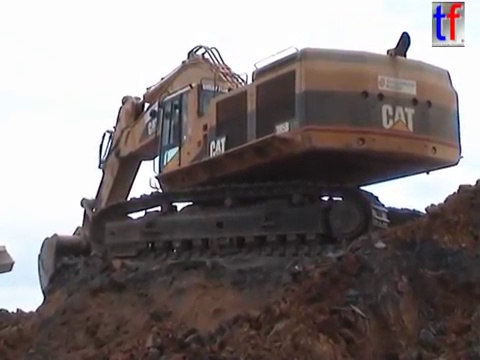excavator: (34, 28, 466, 303)
truck: (1, 243, 17, 277)
